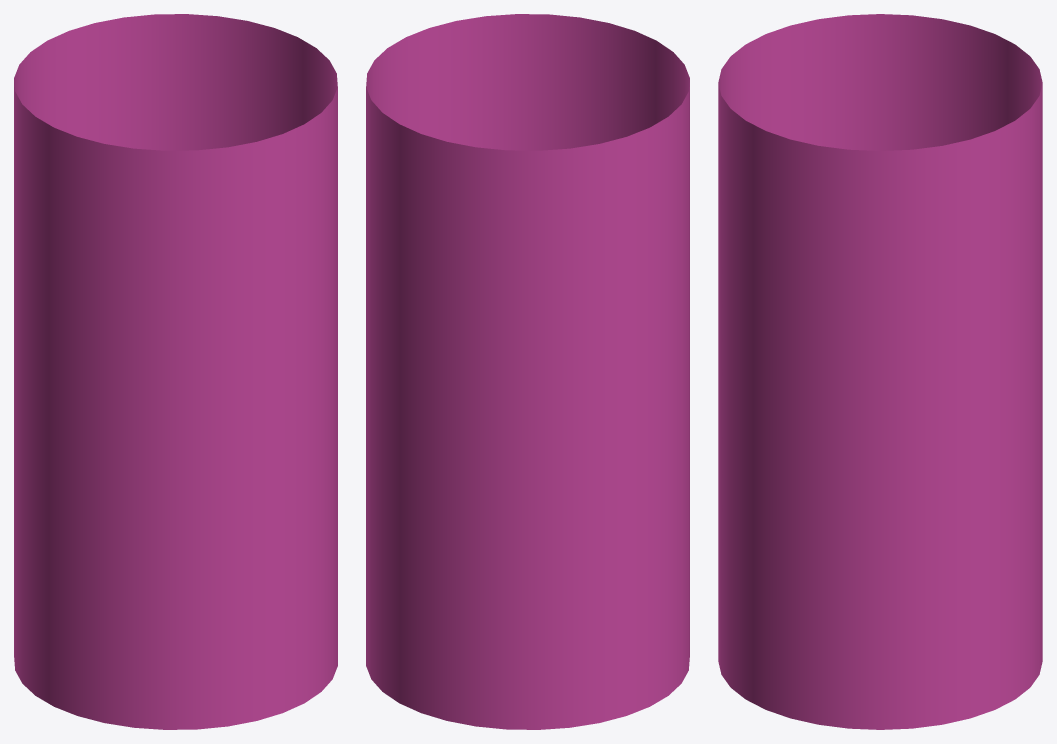
The model's file is p_emissionmesh_excavation_condensation01.fbx.
3 renders of one model, left to right at view 1: azimuth 30°, elevation 25°; view 2: azimuth 150°, elevation 25°; view 3: azimuth 270°, elevation 25°, orthographic.
Parts seen in each view (by area): view 1: Chemicalplant_part_014_chemical; view 2: Chemicalplant_part_014_chemical; view 3: Chemicalplant_part_014_chemical.
Boxes of the visible parts, x1,y1,x2,y2 form: Chemicalplant_part_014_chemical: [14, 14, 337, 729]; Chemicalplant_part_014_chemical: [366, 14, 689, 729]; Chemicalplant_part_014_chemical: [718, 14, 1042, 729].
Bounding box in the file's own units: 141 × 278 × 141.
